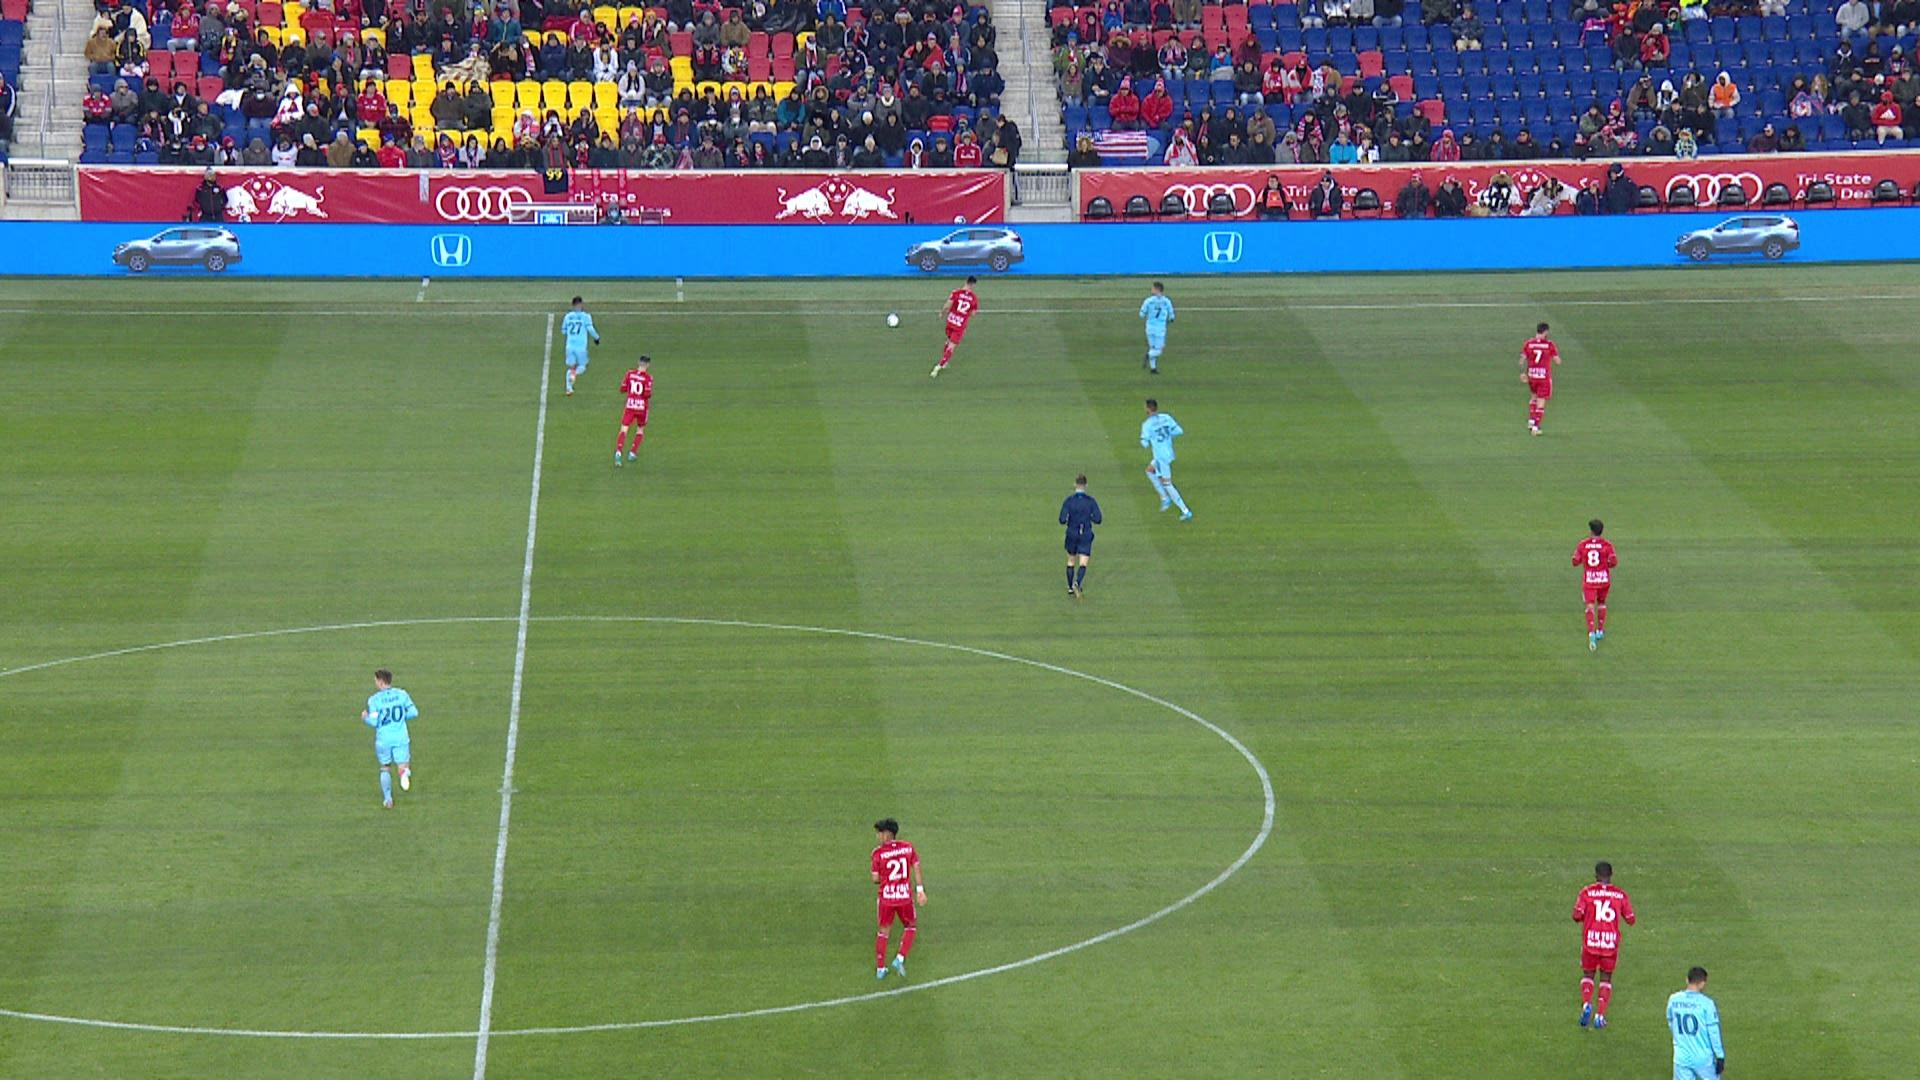football: (886, 313, 901, 327)
